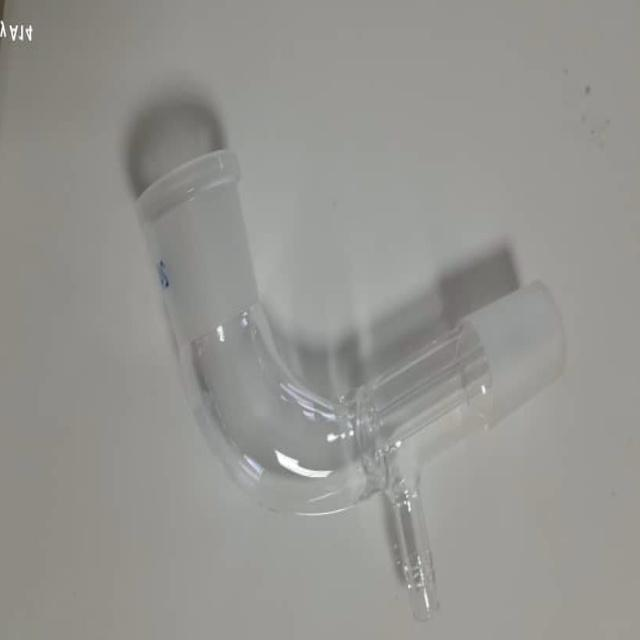Angled Extension for Vacuum Distillation: (110, 139, 576, 621)
